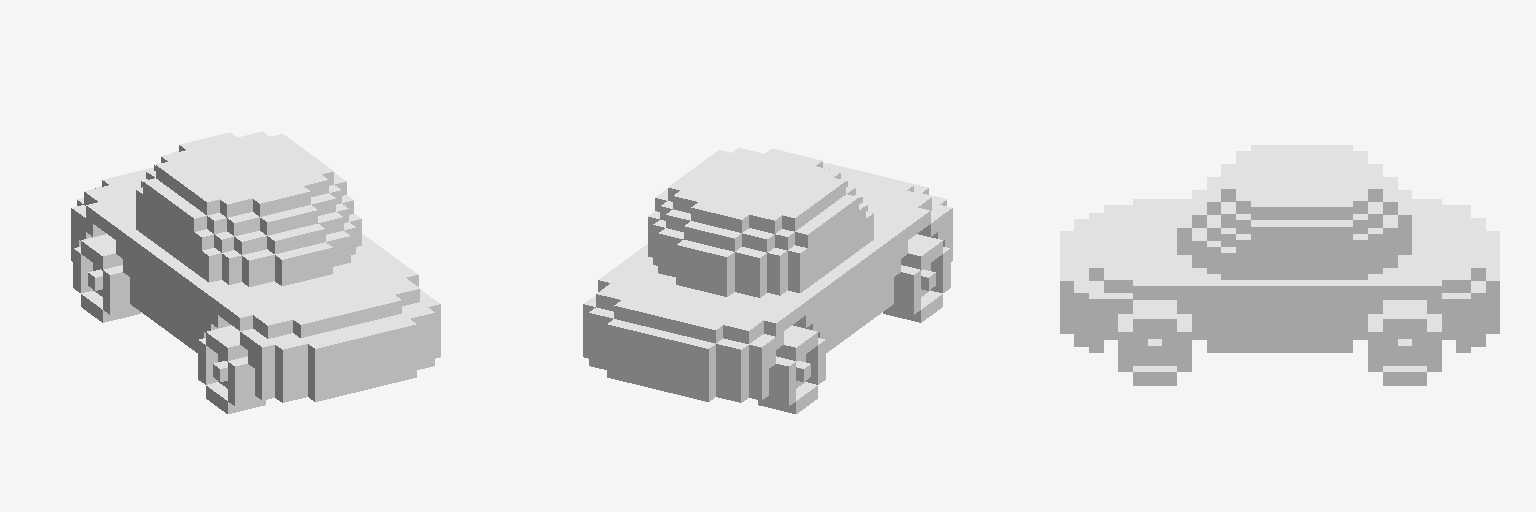
Rendered from playcar1.obj.
3 renders of one model, left to right at view 1: azimuth 30°, elevation 25°; view 2: azimuth 150°, elevation 25°; view 3: azimuth 270°, elevation 25°, orthographic.
Visible parts, largest first — view 1: playcar1; view 2: playcar1; view 3: playcar1.
Part boxes in pixels (left/top/right/bottom): playcar1: left=71, top=132, right=440, bottom=413; playcar1: left=583, top=148, right=952, bottom=413; playcar1: left=1060, top=145, right=1499, bottom=385.
Size of the model in its own units: 16 by 12 by 30.